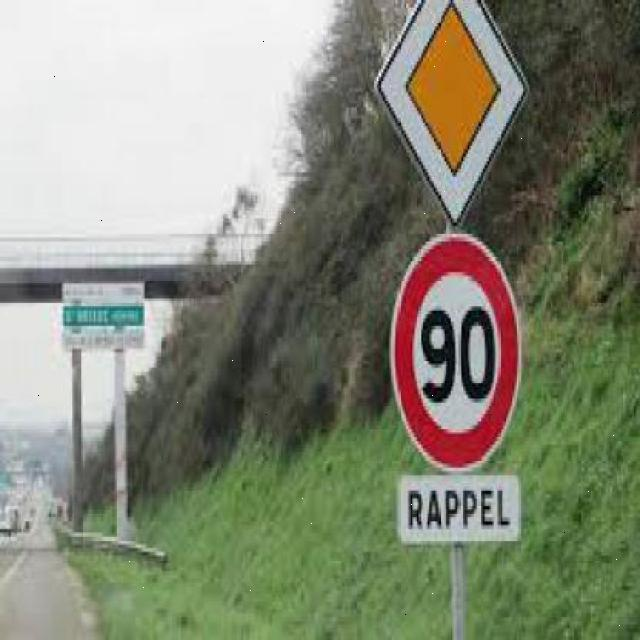speed limit 90: (392, 236, 527, 470)
